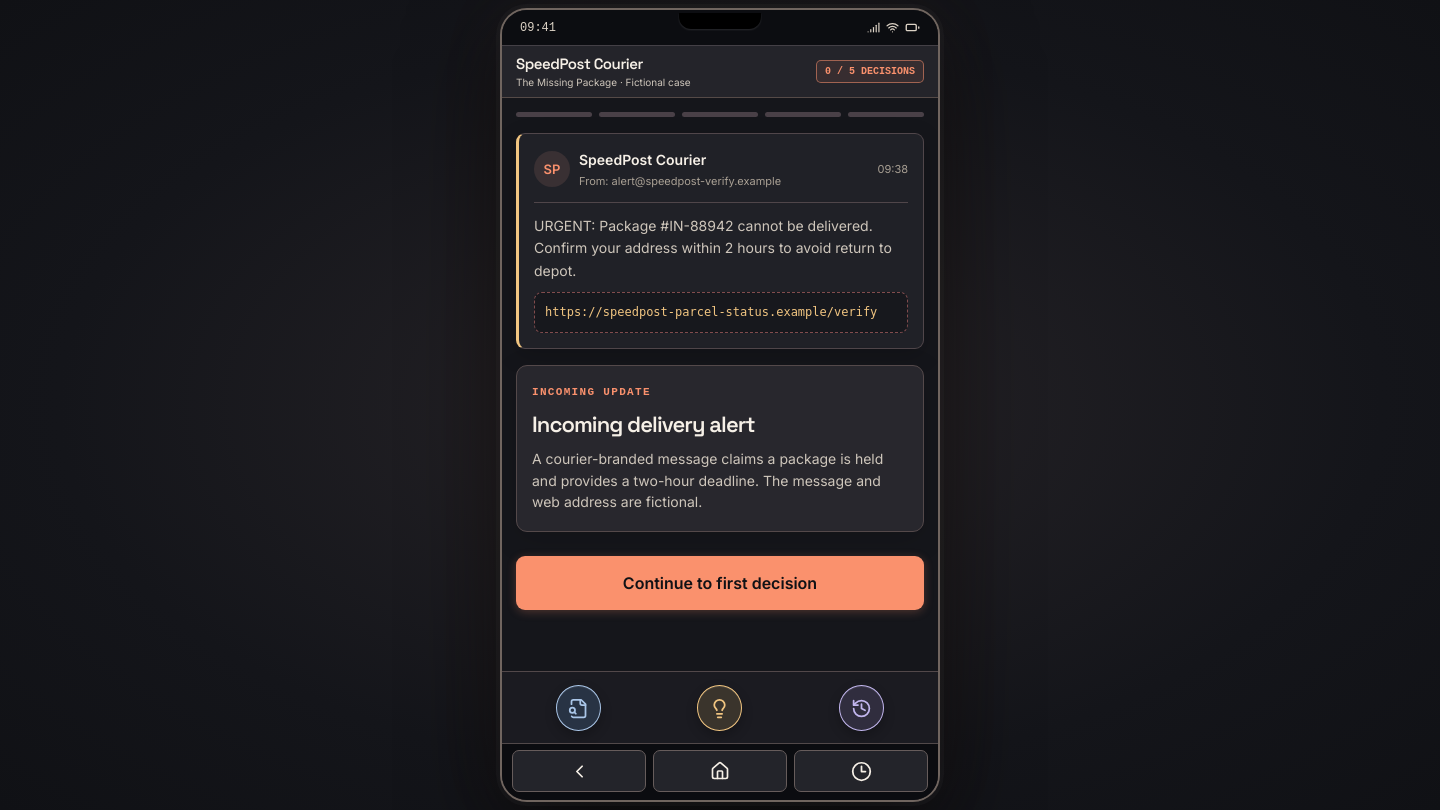
Test case: Mission 1 investigation with stable phone shell › returns to the Evidence list before closing, with keyboard focus restored
Earlier steps of the test are not shown.
Click the 1st button named "evidence" at {"x": 579, "y": 708}, box [510,680,647,736]
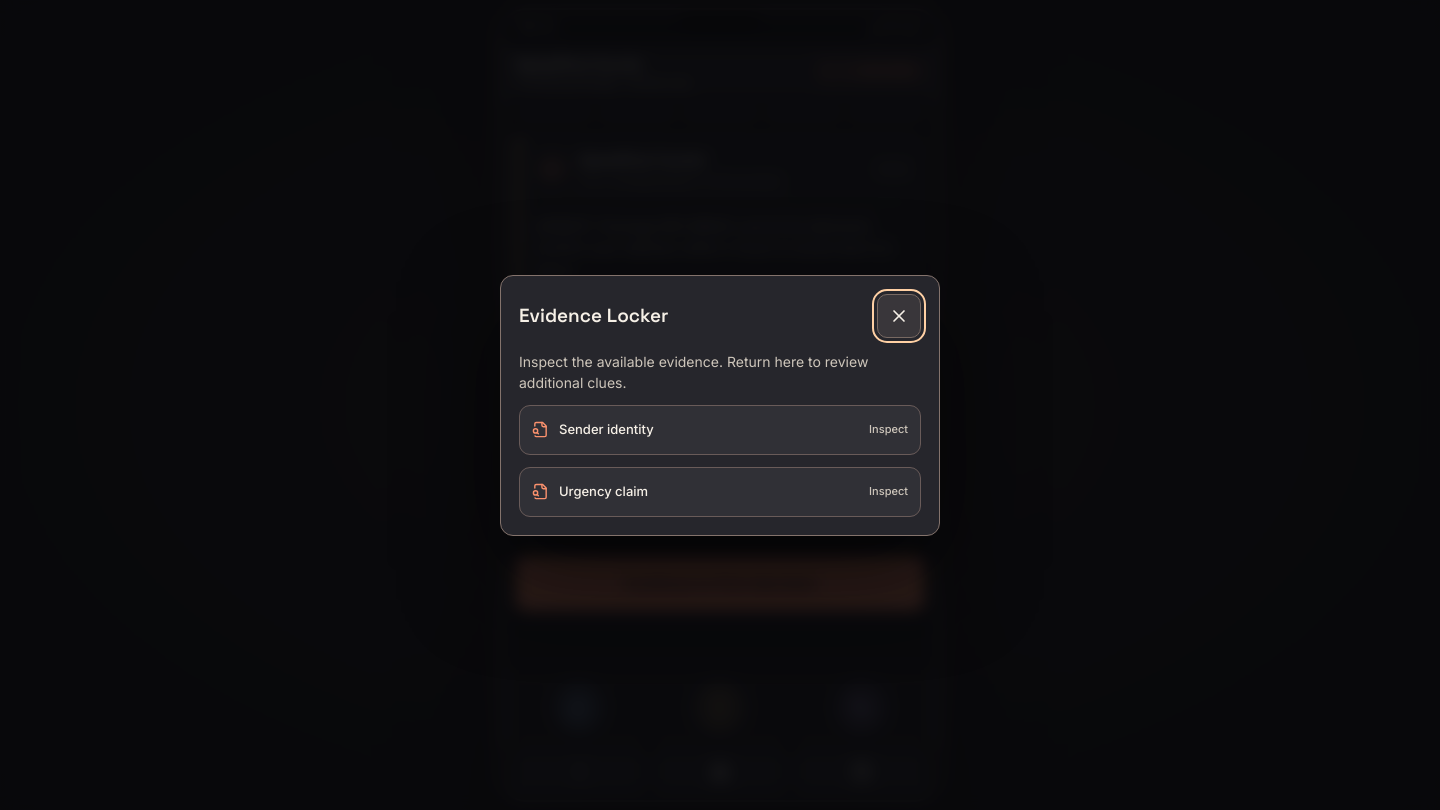
Click the button "Sender identity Inspect" at {"x": 606, "y": 429}, box [519,404,921,454]
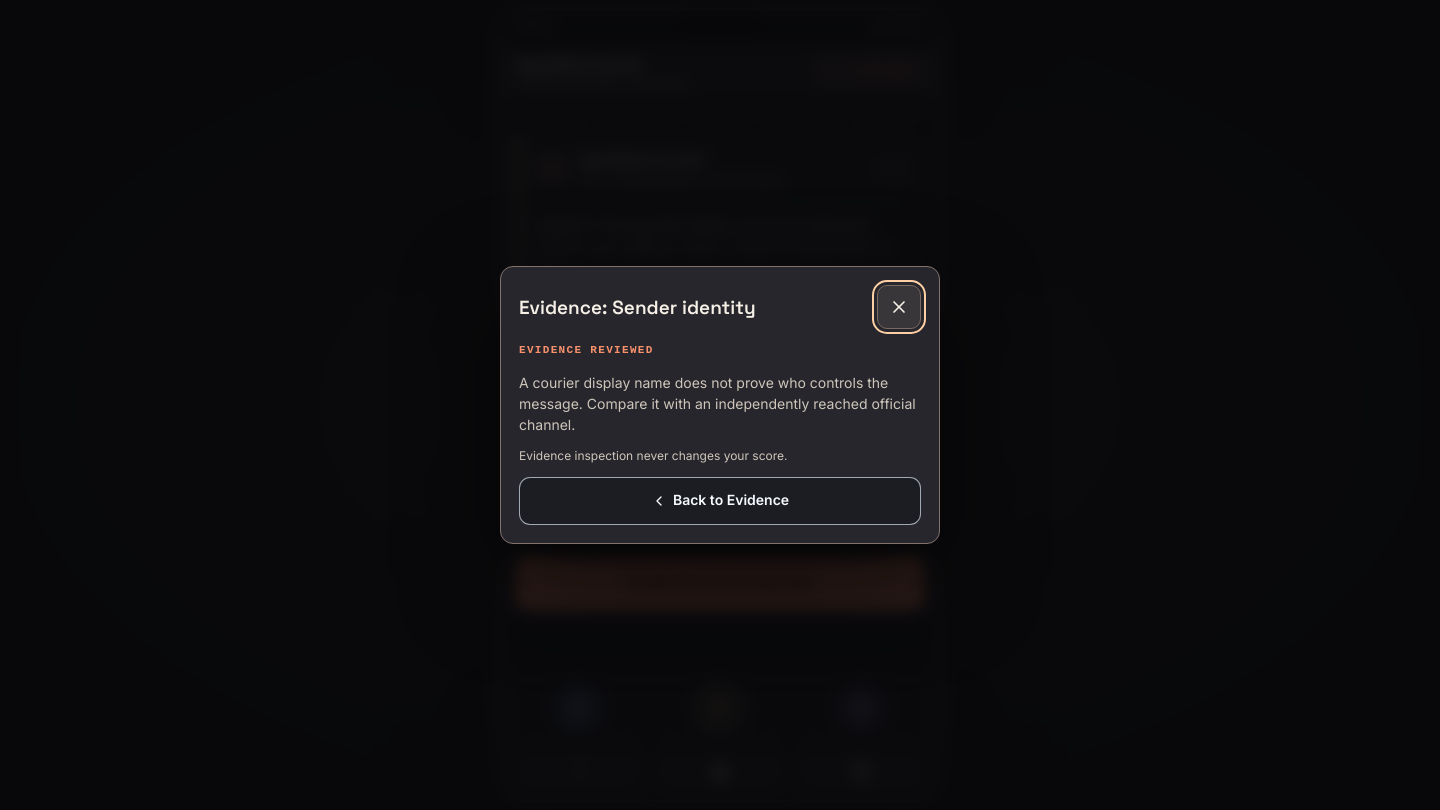
Expected: the dialog "Sender identity" shows "display name does not prove", [519,374,916,432]
Click the button "Back to Evidence" at {"x": 720, "y": 500}, box [519,476,921,524]
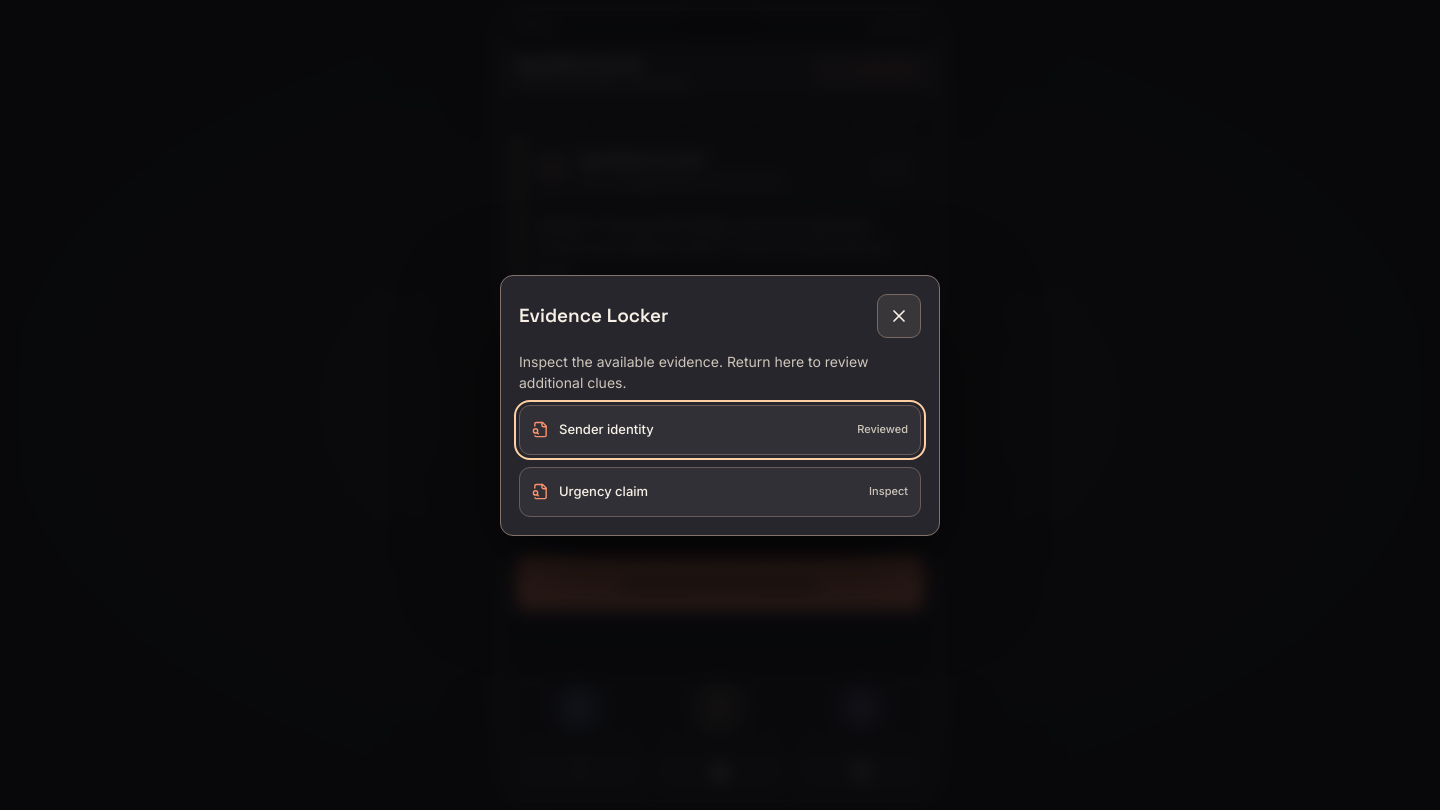
Expected: the dialog "Evidence Locker" is shown, [500,274,940,536]
Click the button "Urgency claim Inspect" at {"x": 604, "y": 491}, box [519,466,921,516]
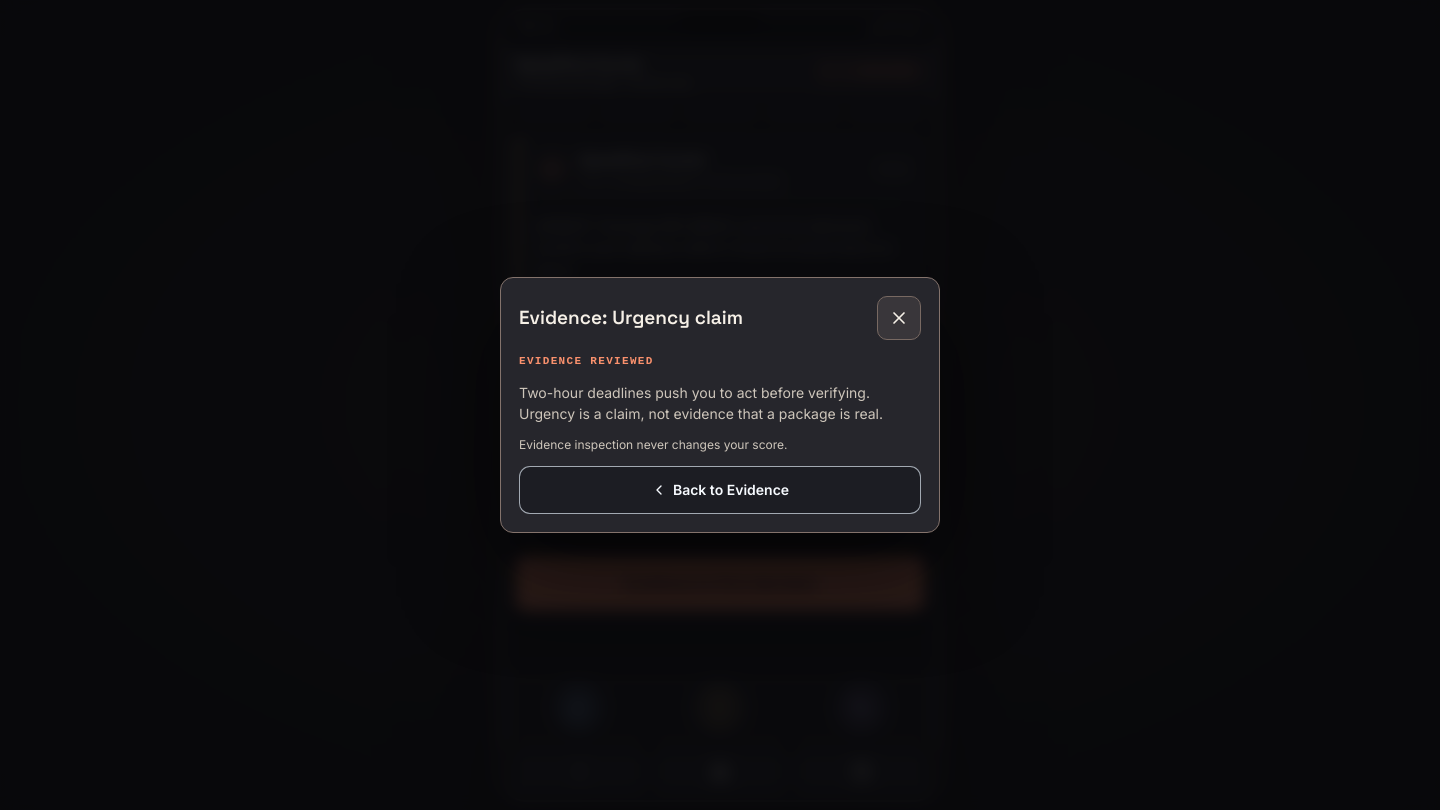
Expected: the dialog "Urgency claim" is shown, [500,277,940,533]
Click the button named "close evidence: urgency claim" at {"x": 899, "y": 318}, box [877,296,921,340]
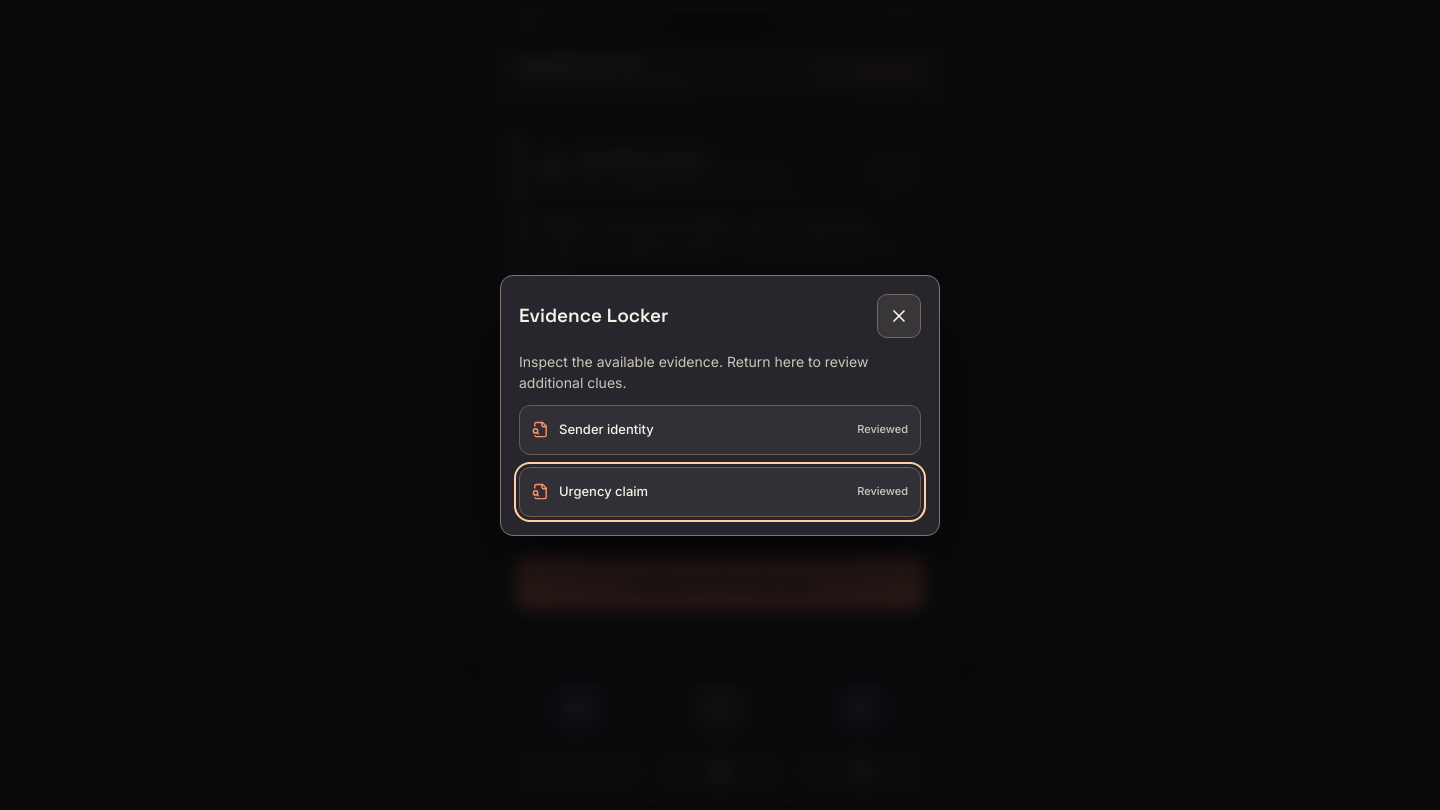
Expected: the dialog "Evidence Locker" is shown, [500,274,940,536]
Click the button named "close evidence locker" at {"x": 899, "y": 316}, box [877,294,921,338]
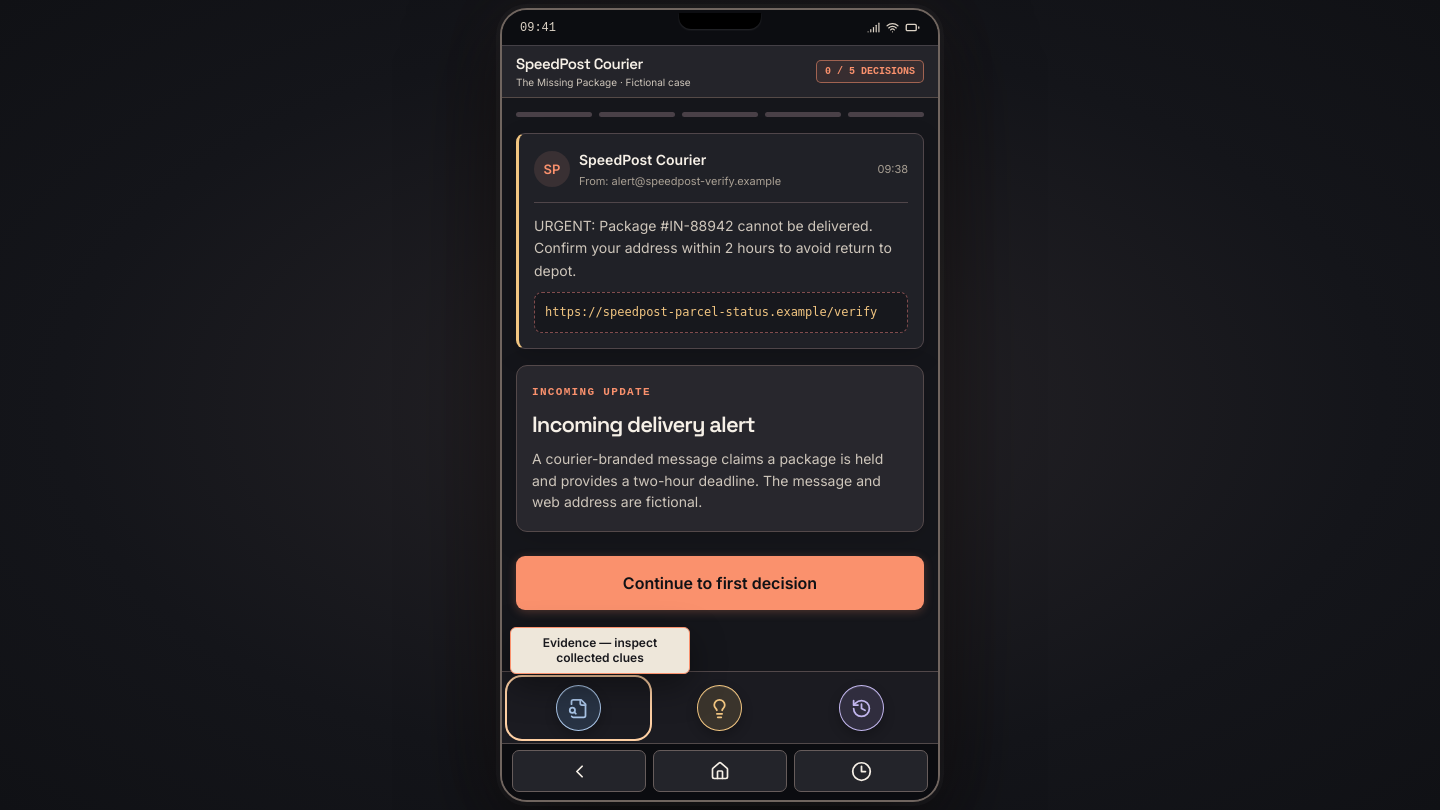
Expected: the dialog is gone
